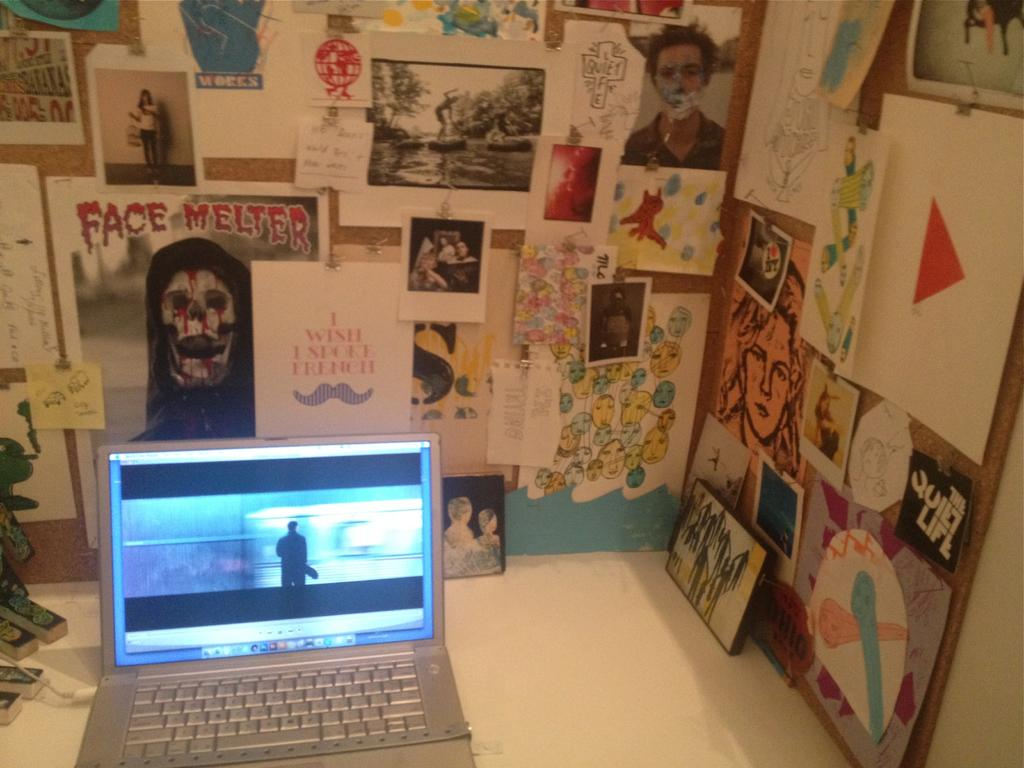Laptop: (74, 431, 475, 767)
